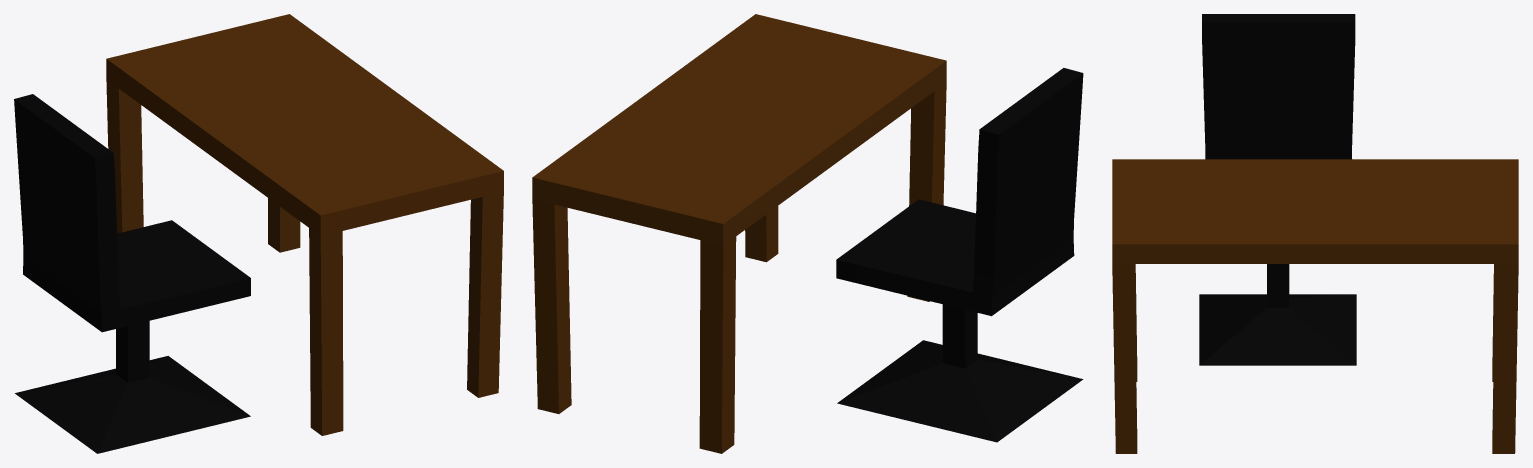
The model's file is TeacherChairAndDesk.fbx.
3 renders of one model, left to right at view 1: azimuth 30°, elevation 25°; view 2: azimuth 150°, elevation 25°; view 3: azimuth 270°, elevation 25°, orthographic. The views are drawn at different scales.
Parts seen in each view (by area): view 1: Cube, Cube.001; view 2: Cube, Cube.001; view 3: Cube, Cube.001.
Boxes of the visible parts, x1=… form: Cube: x1=106, y1=14, x2=503, y2=435; Cube.001: x1=14, y1=94, x2=250, y2=453; Cube: x1=532, y1=14, x2=946, y2=453; Cube.001: x1=836, y1=68, x2=1083, y2=442; Cube: x1=1112, y1=159, x2=1518, y2=453; Cube.001: x1=1199, y1=14, x2=1356, y2=365.
Bounding box in the file's own units: 485 × 379 × 498.
